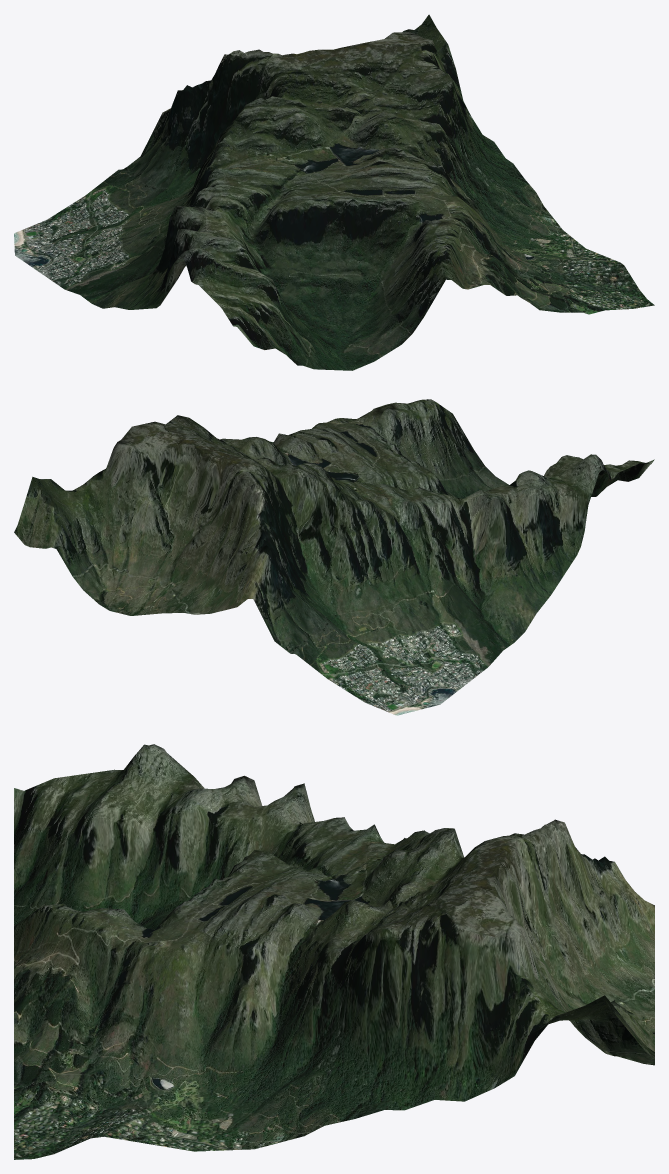
The model's file is realmesa.glb.
3 views of the same model, one above another, from view 1: azimuth 30°, elevation 25°; view 2: azimuth 150°, elevation 25°; view 3: azimuth 270°, elevation 25° (orthographic). The views are drawn at different scales.
Parts seen in each view (by area): view 1: TerrainNode_0; view 2: TerrainNode_0; view 3: TerrainNode_0.
Part boxes in pixels (x1,y1,x2,y2): TerrainNode_0: (14, 14, 654, 370); TerrainNode_0: (14, 399, 654, 715); TerrainNode_0: (14, 744, 654, 1159).
Bounding box in the file's own units: 118 × 45 × 120.
Materials: 1 (1 with a texture image).
